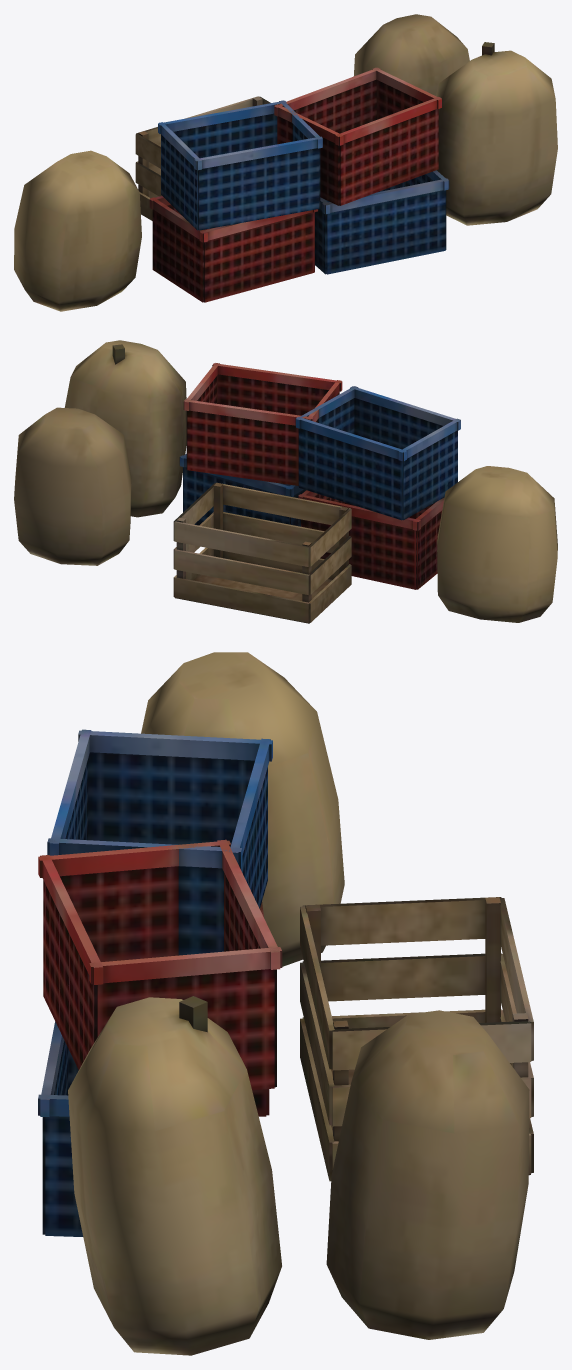
Rendered from crates.glb.
3 renders of one model, top to bottom at view 1: azimuth 30°, elevation 25°; view 2: azimuth 150°, elevation 25°; view 3: azimuth 270°, elevation 25°, orthographic. The views are drawn at different scales.
Parts seen in each view (by area): view 1: body; view 2: body; view 3: body.
Boxes of the visible parts, x1=… form: body: x1=14, y1=14, x2=557, y2=311; body: x1=14, y1=340, x2=557, y2=623; body: x1=38, y1=652, x2=533, y2=1355.
Bounding box in the file's own units: 2.45 × 0.7423 × 1.04.
Materials: 1 (1 with a texture image).
